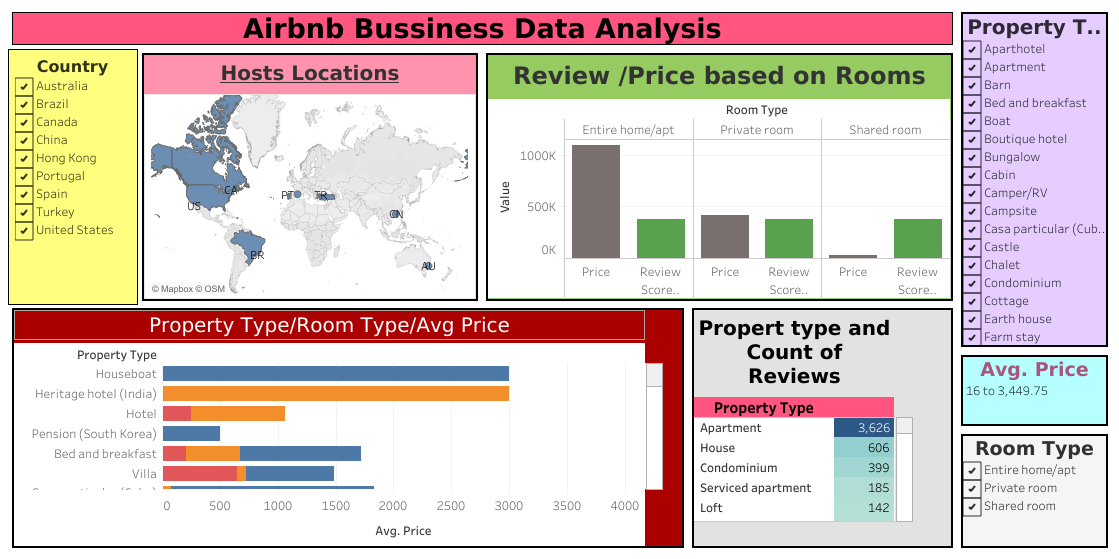

The page's visual inventory and layout, read from the dashboard file:
{"tool":"tableau","page":{"name":"Dashboard 1","canvas":[1000,1000],"units":"permille","ordinal":0},"visuals":[{"type":"title","box":[8.7,12.6,982.6,82.2]},{"type":"filter","title":"Sheet 5","param":"[federated.0u8rljp101dfq913cnhj8018naos].[none:country:nk]","box":[8.7,94.8,134.8,449.5]},{"type":"worksheet","title":"Sheet 5","mark":"Multipolygon","rows":["Latitude"],"cols":["Longitude"],"box":[143.5,94.8,356.5,449.5]},{"type":"worksheet","title":"Sheet 4","mark":"Automatic","cols":["room_type"],"box":[500,94.8,491.3,449.5]},{"type":"worksheet","title":"property type,avg price and room type","mark":"Bar","rows":["property_type"],"cols":["price"],"box":[8.7,544.3,491.3,443.1]},{"type":"worksheet","title":"Sheet 3","mark":"Shape","box":[500,544.3,491.3,443.1]}]}

Visuals, with their boxes on the dashboard's canvas, which has no fixed pixel size, in thousandths of its width and height (x1, y1, x2, y2). These are canvas units, not pixel positions in the 1119x559 screenshot, which may show the page scaled, cropped or inside an application window:
title: <bbox>9, 13, 991, 95</bbox>
"Sheet 5" filter: <bbox>9, 95, 144, 544</bbox>
"Sheet 5" worksheet (Multipolygon marks): <bbox>144, 95, 500, 544</bbox>
"Sheet 4" worksheet: <bbox>500, 95, 991, 544</bbox>
"property type,avg price and room type" worksheet (Bar marks): <bbox>9, 544, 500, 987</bbox>
"Sheet 3" worksheet (Shape marks): <bbox>500, 544, 991, 987</bbox>
